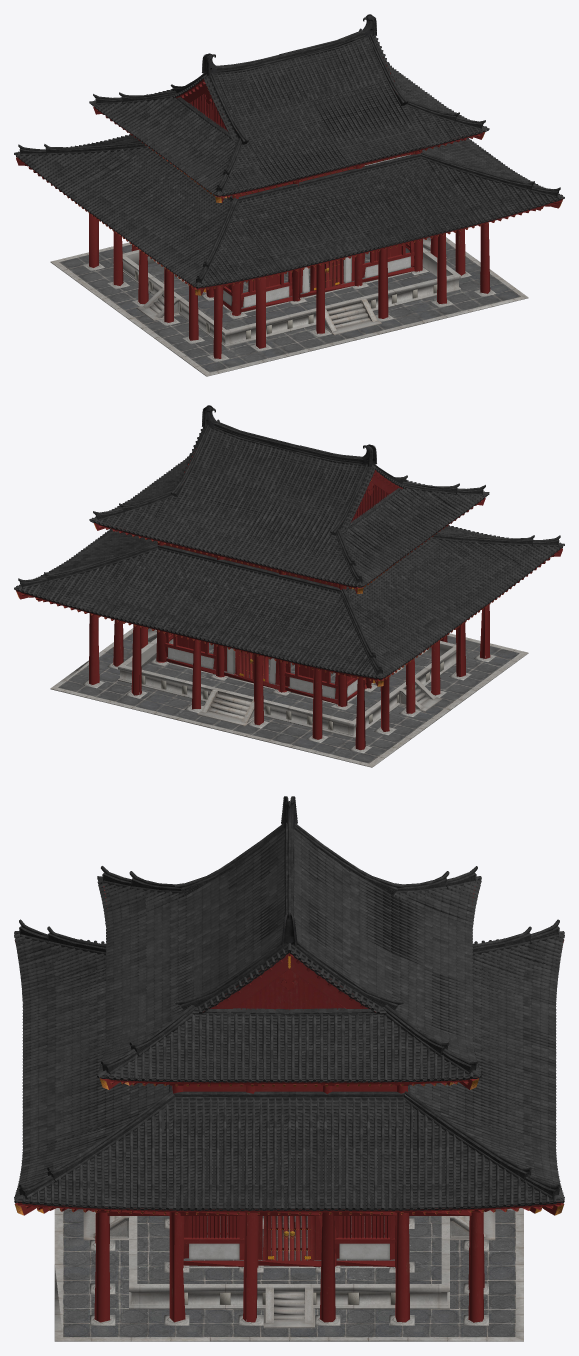
File: geumdang.glb
3 views of the same model, one above another, from view 1: azimuth 30°, elevation 25°; view 2: azimuth 150°, elevation 25°; view 3: azimuth 270°, elevation 25° (orthographic). The views are drawn at different scales.
Visible parts, largest first — view 1: SM_IDBA_001_Roof_1F_01, SM_IDBA_001_Roof_2F_01, SM_IDBA_001_Floor, SM_IDBA_001_Pillar, SM_IDBA_001_Stereobate_2F, SM_IDBA_001_Roof_2F_03, SM_IDBA_001_Stereobate_1F, SM_IDBA_001_Roof_1F_03, SM_IDBA_001_Foundationstone, SM_IDBA_001_Roof_2F_04, SM_IDBA_001_Wall, SM_IDBA_001_Wallwood (+11 smaller); view 2: SM_IDBA_001_Roof_1F_01, SM_IDBA_001_Roof_2F_01, SM_IDBA_001_Floor, SM_IDBA_001_Pillar, SM_IDBA_001_Stereobate_2F, SM_IDBA_001_Roof_2F_03, SM_IDBA_001_Stereobate_1F, SM_IDBA_001_Roof_1F_03, SM_IDBA_001_Foundationstone, SM_IDBA_001_Roof_2F_04, SM_IDBA_001_Wall, SM_IDBA_001_Wallwood (+11 smaller); view 3: SM_IDBA_001_Roof_1F_01, SM_IDBA_001_Roof_2F_01, SM_IDBA_001_Floor, SM_IDBA_001_Pillar, SM_IDBA_001_Roof_2F_03, SM_IDBA_001_Stereobate_2F, SM_IDBA_001_Roof_1F_03, SM_IDBA_001_Stereobate_1F, SM_IDBA_001_Bakgong, SM_IDBA_001_Window, SM_IDBA_001_Foundationstone, SM_IDBA_001_Wallwood (+16 smaller).
Part boxes in pixels (left/top/right/bottom): SM_IDBA_001_Roof_1F_01: left=16, top=134, right=562, bottom=287; SM_IDBA_001_Roof_2F_01: left=92, top=37, right=486, bottom=195; SM_IDBA_001_Floor: left=59, top=237, right=520, bottom=372; SM_IDBA_001_Pillar: left=89, top=150, right=490, bottom=358; SM_IDBA_001_Stereobate_2F: left=122, top=248, right=460, bottom=347; SM_IDBA_001_Roof_2F_03: left=93, top=28, right=485, bottom=192; SM_IDBA_001_Stereobate_1F: left=50, top=237, right=528, bottom=376; SM_IDBA_001_Roof_1F_03: left=18, top=142, right=560, bottom=283; SM_IDBA_001_Foundationstone: left=82, top=257, right=496, bottom=362; SM_IDBA_001_Roof_2F_04: left=214, top=30, right=367, bottom=74; SM_IDBA_001_Wall: left=223, top=248, right=410, bottom=307; SM_IDBA_001_Wallwood: left=206, top=241, right=414, bottom=311; SM_IDBA_001_Roof_1F_01: left=16, top=525, right=562, bottom=678; SM_IDBA_001_Roof_2F_01: left=92, top=428, right=486, bottom=586; SM_IDBA_001_Floor: left=58, top=628, right=519, bottom=763; SM_IDBA_001_Pillar: left=89, top=542, right=490, bottom=749; SM_IDBA_001_Stereobate_2F: left=118, top=638, right=456, bottom=738; SM_IDBA_001_Roof_2F_03: left=93, top=419, right=485, bottom=583; SM_IDBA_001_Stereobate_1F: left=50, top=628, right=528, bottom=767; SM_IDBA_001_Roof_1F_03: left=18, top=533, right=560, bottom=675; SM_IDBA_001_Foundationstone: left=82, top=648, right=496, bottom=753; SM_IDBA_001_Roof_2F_04: left=211, top=421, right=364, bottom=465; SM_IDBA_001_Wall: left=168, top=639, right=357, bottom=698; SM_IDBA_001_Wallwood: left=165, top=632, right=371, bottom=704; SM_IDBA_001_Roof_1F_01: left=14, top=933, right=564, bottom=1210; SM_IDBA_001_Roof_2F_01: left=97, top=829, right=481, bottom=1082; SM_IDBA_001_Floor: left=63, top=1208, right=515, bottom=1337; SM_IDBA_001_Pillar: left=94, top=1085, right=484, bottom=1322; SM_IDBA_001_Roof_2F_03: left=101, top=823, right=477, bottom=1074; SM_IDBA_001_Stereobate_2F: left=129, top=1216, right=449, bottom=1309; SM_IDBA_001_Roof_1F_03: left=19, top=919, right=559, bottom=1198; SM_IDBA_001_Stereobate_1F: left=54, top=1208, right=523, bottom=1341; SM_IDBA_001_Bakgong: left=210, top=954, right=368, bottom=1009; SM_IDBA_001_Window: left=184, top=1216, right=395, bottom=1243; SM_IDBA_001_Foundationstone: left=90, top=1218, right=488, bottom=1325; SM_IDBA_001_Wallwood: left=183, top=1216, right=395, bottom=1266.
Bounding box in the file's own units: 26.71 × 16.97 × 23.
38 materials, 37 textured.
